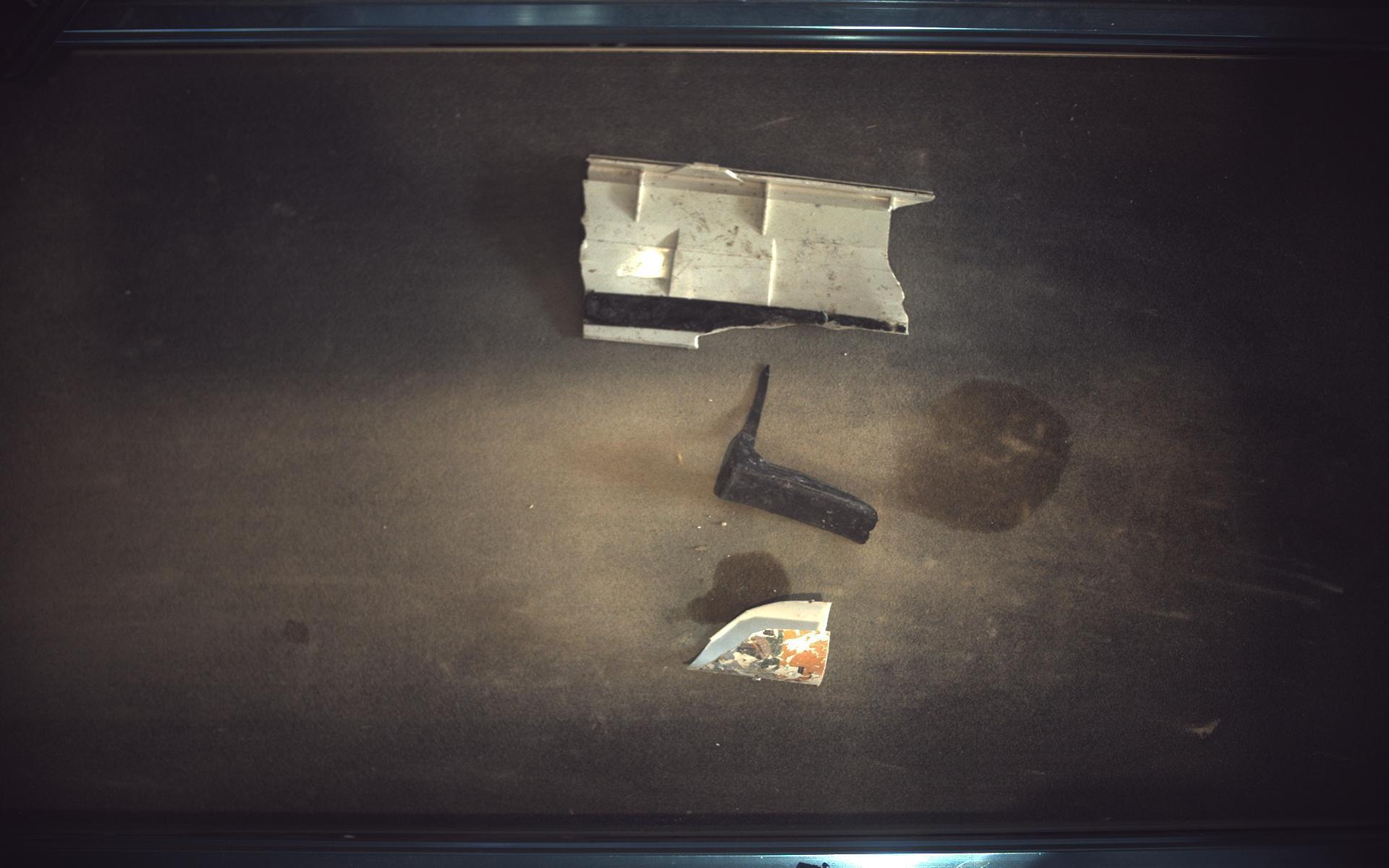plastic: (580, 155, 935, 348), (715, 365, 880, 544), (690, 601, 833, 686)
